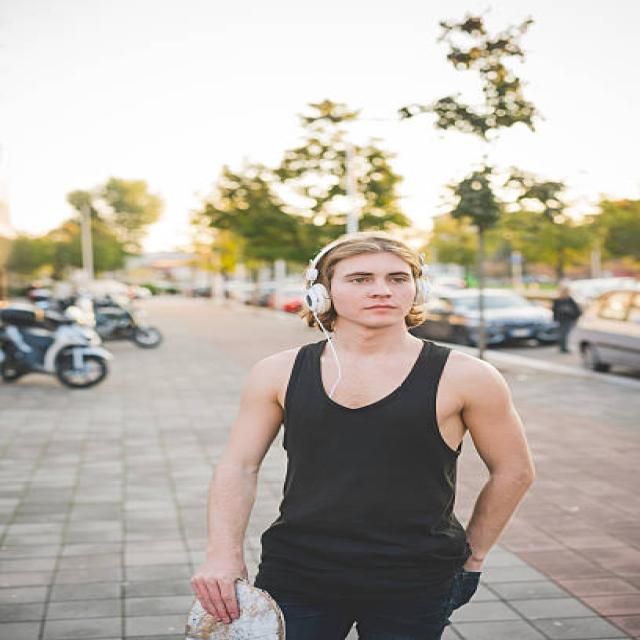Headphone: (301, 235, 434, 316)
